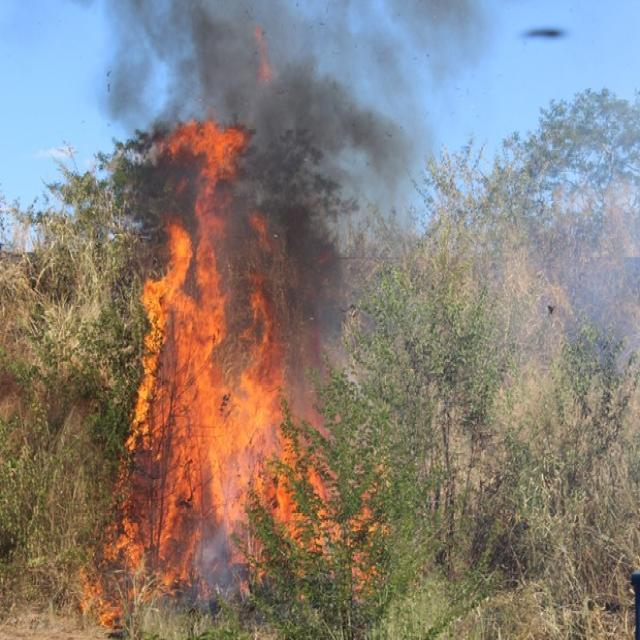Fire: (105, 124, 373, 593)
Smoke: (104, 5, 464, 119), (543, 165, 639, 372)
